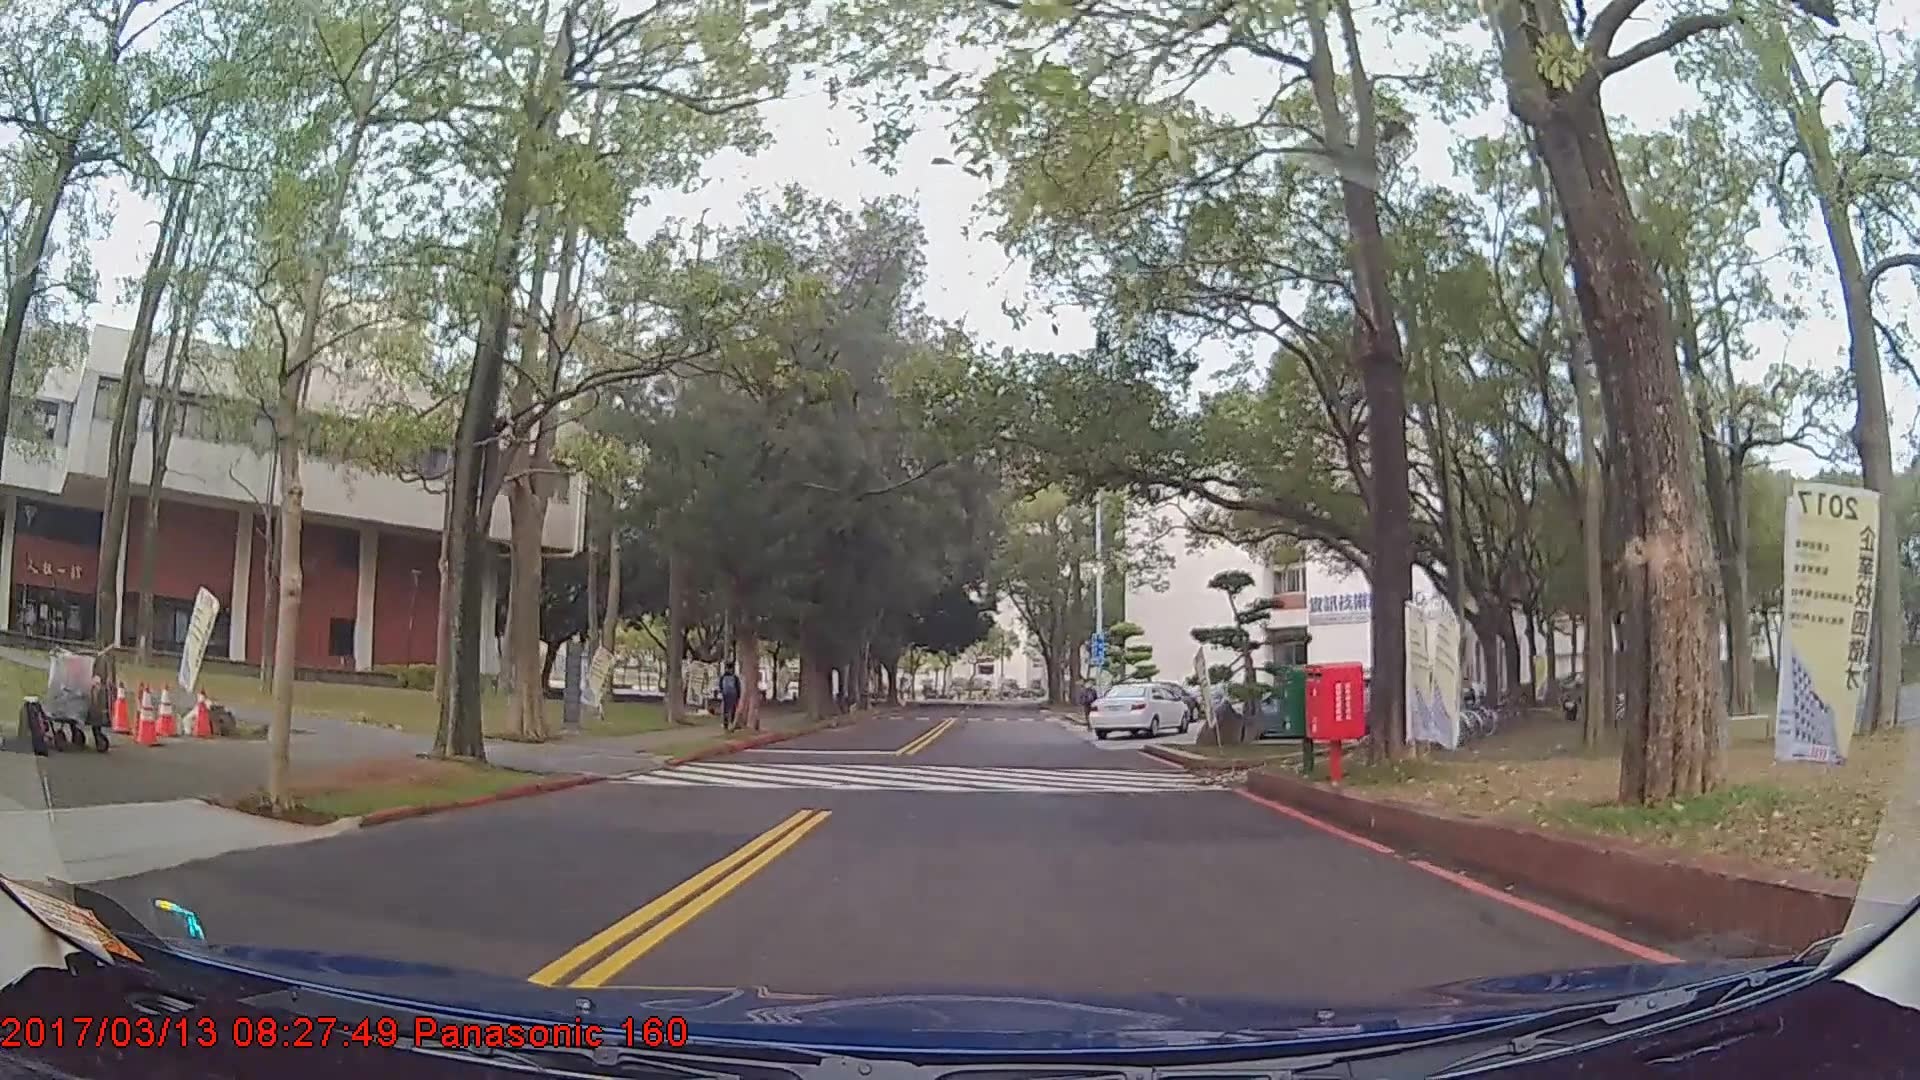pedestrian: (716, 660, 746, 729), (1080, 677, 1100, 732)
vehicle: (1089, 680, 1192, 739)
